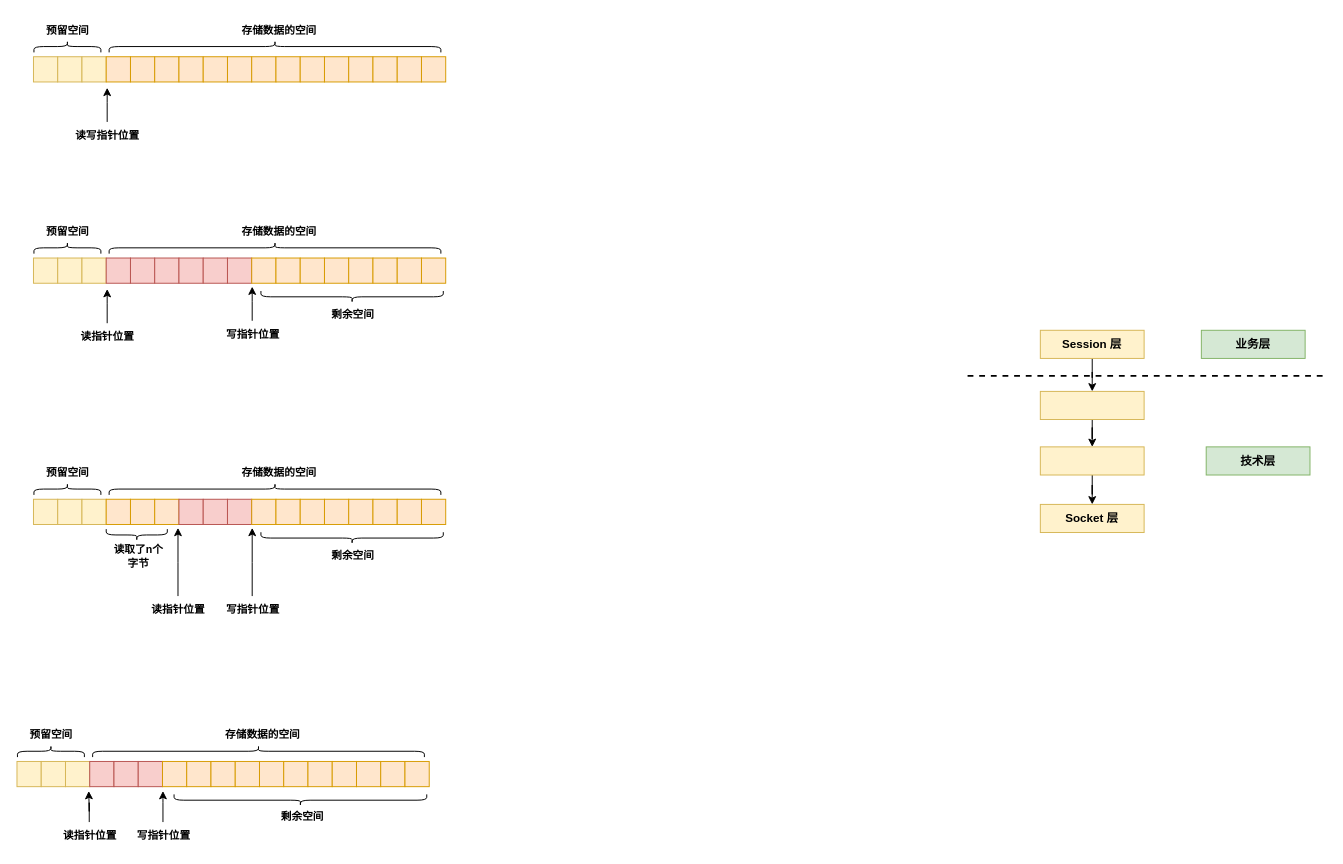
Some shapes in this 1343 by 864 pixel diagram are drawn without their labels. The shapes that lost their labels are listed below. From the top down, each one's box as (x1, y1, x2, y2) in pixels, then its label:
(1039, 390, 1144, 420): Connection 层
(1039, 446, 1144, 475): Channel 层
